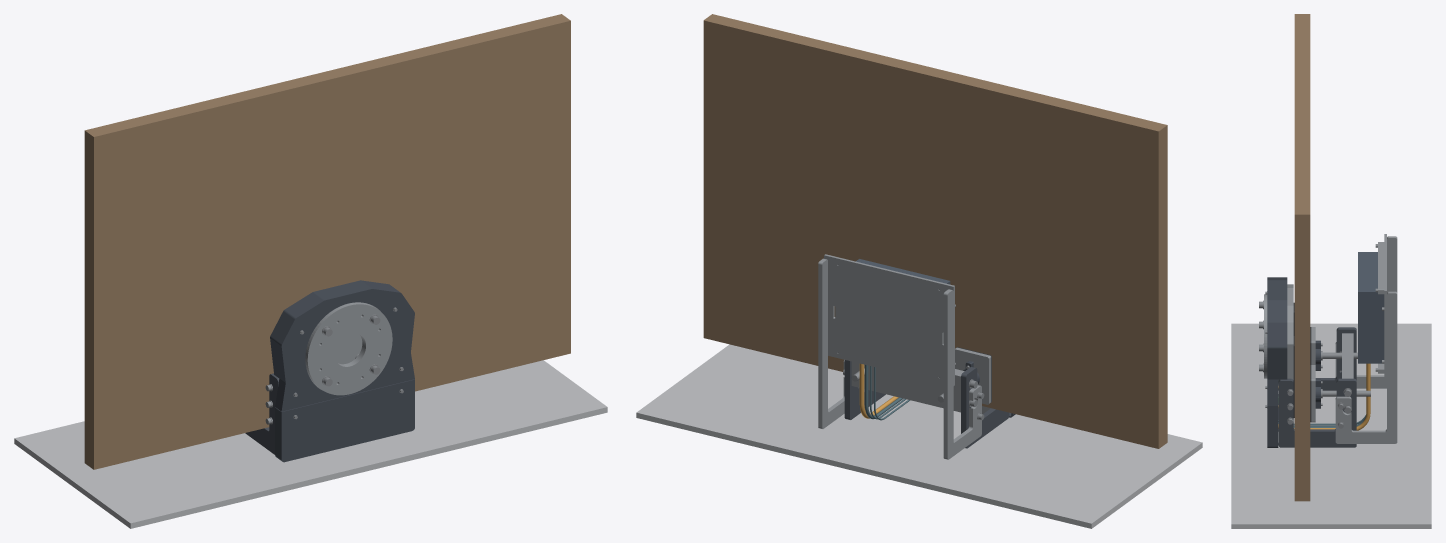
Rendered from ODR-BASE-B04-P1.glb.
3 views of the same model, side by side, from view 1: azimuth 30°, elevation 25°; view 2: azimuth 150°, elevation 25°; view 3: azimuth 270°, elevation 25° (orthographic). The views are drawn at different scales.
Visible parts, largest first — view 1: ENV-DESK, ENV-WALL, B04-301-COVER-FRONT, B04-301-COVER-REAR, B04-104-FLANGE, B04-102-CPLATE-L, B04-101-DECK; view 2: ENV-DESK, ENV-WALL, B04-202-TRAY, B04-201-CRADLE-L, B04-103-BRIDGE, B04-201-CRADLE-R, B04-102-CPLATE-L, B04-107-PRESSPAD--1, B04-102-CPLATE-R; view 3: ENV-WALL, ENV-DESK, B04-201-CRADLE-R, ENV-CONTROLLER, B04-301-COVER-FRONT, B04-102-CPLATE-R, B04-201-CRADLE-L, B04-102-CPLATE-L, B04-101-DECK, B04-103-BRIDGE, B04-301-COVER-REAR, B04-202-TRAY (+4 smaller).
Boxes of the visible parts, x1,y1,x2,y2 form: ENV-DESK: (84, 14, 570, 469); ENV-WALL: (14, 360, 607, 528); B04-301-COVER-FRONT: (270, 280, 414, 411); B04-301-COVER-REAR: (275, 379, 414, 462); B04-104-FLANGE: (305, 302, 392, 395); B04-102-CPLATE-L: (245, 373, 279, 454); B04-101-DECK: (313, 305, 380, 390); ENV-DESK: (703, 14, 1167, 448); ENV-WALL: (636, 344, 1202, 528); B04-202-TRAY: (824, 254, 954, 385); B04-201-CRADLE-L: (943, 289, 981, 459); B04-103-BRIDGE: (851, 361, 964, 412); B04-201-CRADLE-R: (818, 258, 844, 428); B04-102-CPLATE-L: (961, 367, 1009, 448); B04-107-PRESSPAD--1: (955, 347, 991, 404); B04-102-CPLATE-R: (844, 360, 885, 419); ENV-WALL: (1231, 323, 1431, 528); ENV-DESK: (1294, 14, 1310, 501); B04-201-CRADLE-R: (1335, 291, 1397, 443); ENV-CONTROLLER: (1358, 252, 1384, 363); B04-301-COVER-FRONT: (1267, 277, 1287, 404); B04-102-CPLATE-R: (1278, 378, 1356, 447); B04-201-CRADLE-L: (1335, 236, 1397, 388); B04-102-CPLATE-L: (1315, 327, 1356, 390); B04-101-DECK: (1287, 284, 1293, 380); B04-103-BRIDGE: (1342, 333, 1353, 378); B04-301-COVER-REAR: (1267, 404, 1278, 447); B04-202-TRAY: (1384, 234, 1386, 380).
Size of the model in its own units: 0.9 by 0.658 by 0.38.
